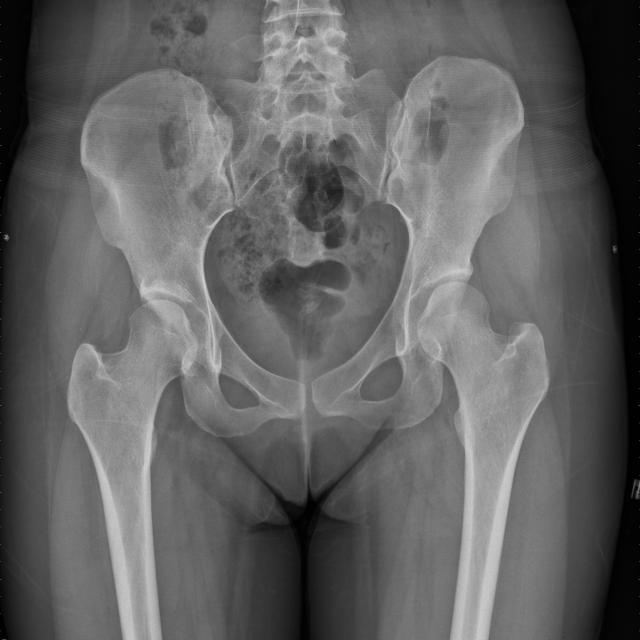normal-left: (417, 281, 550, 640)
normal-right: (67, 300, 199, 584)
